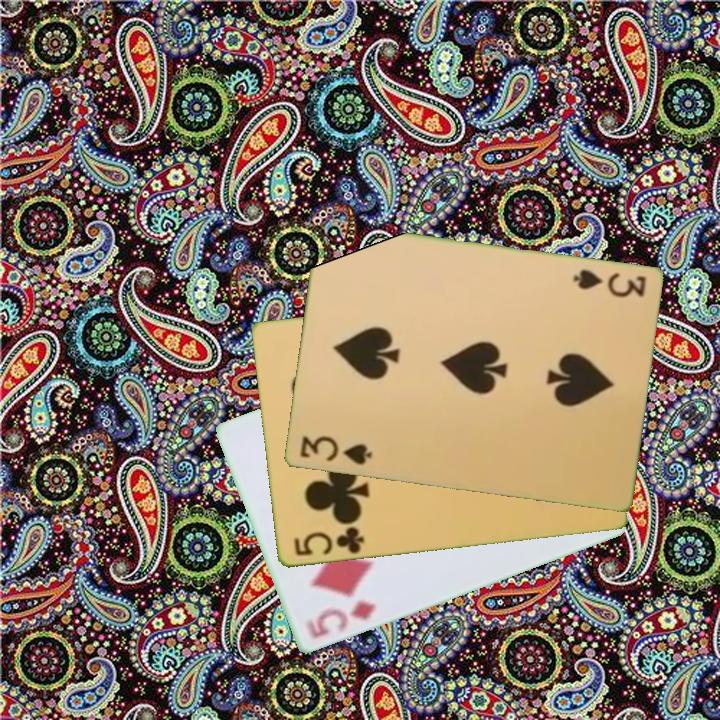3s: (569, 266, 649, 301), (296, 433, 374, 468)
5c: (290, 524, 367, 560)
5d: (302, 597, 379, 642)
